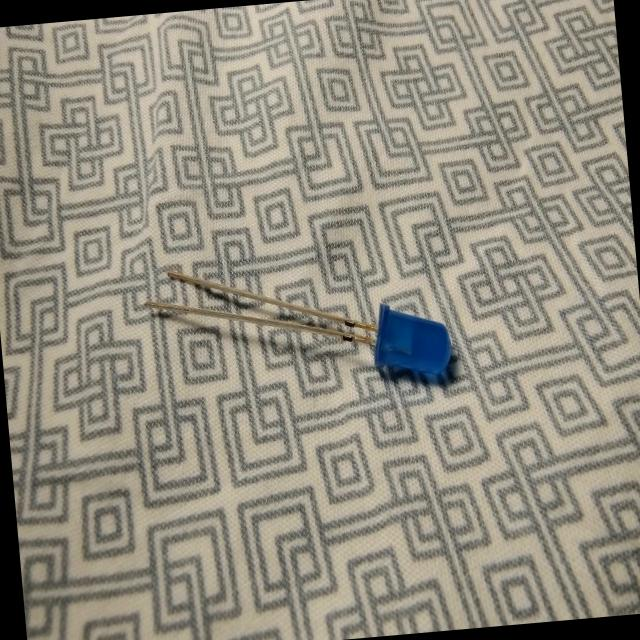blue_led: (368, 295, 455, 390)
